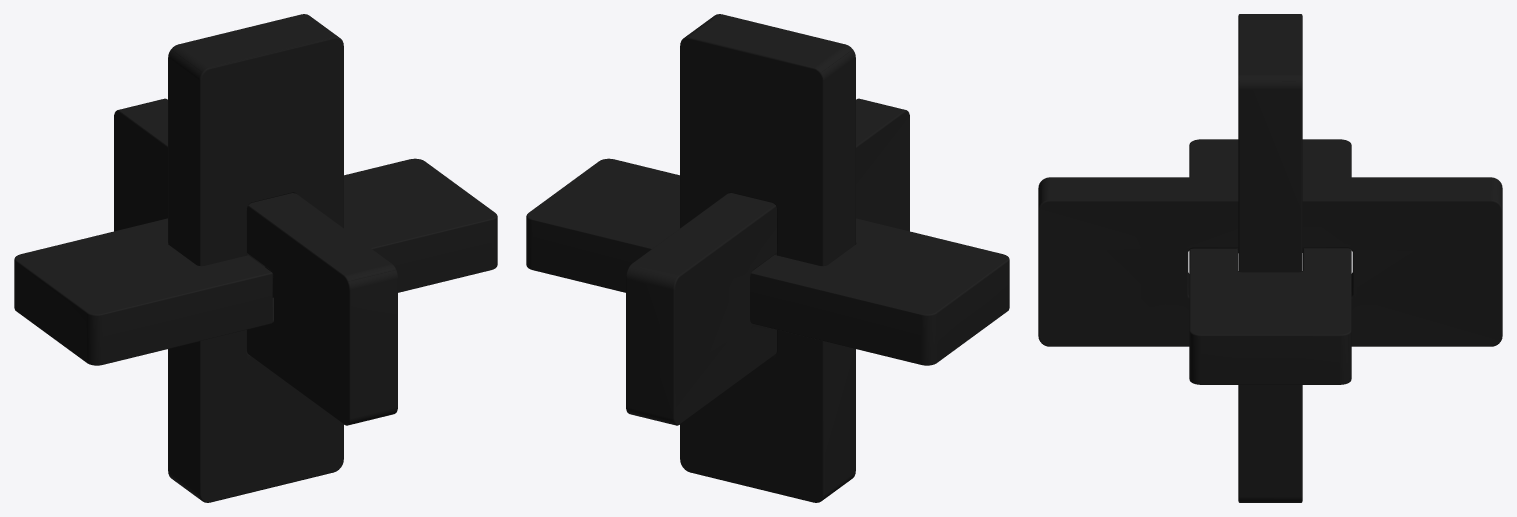
The model's file is puzzle-3pc-black.glb.
The picture shows the model from 3 angles, left to right: view 1: azimuth 30°, elevation 25°; view 2: azimuth 150°, elevation 25°; view 3: azimuth 270°, elevation 25°; orthographic projection.
Visible parts, largest first — view 1: Cube.002; view 2: Cube.002; view 3: Cube.002.
Boxes of the visible parts, <box> form: Cube.002: <box>14,14,497,502</box>; Cube.002: <box>526,14,1009,502</box>; Cube.002: <box>1038,14,1502,502</box>.
Bounding box in the file's own units: 3.35 × 3.4 × 3.35.
1 material, 1 textured.
